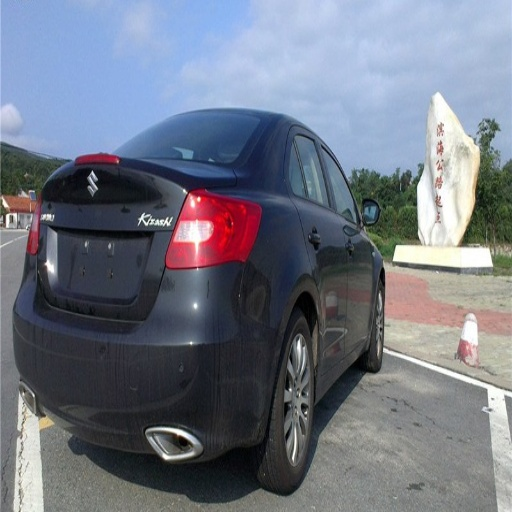back_bumper: (13, 260, 286, 457)
back_right_door: (288, 126, 344, 361)
